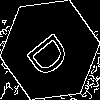D: (25, 25, 79, 81)
